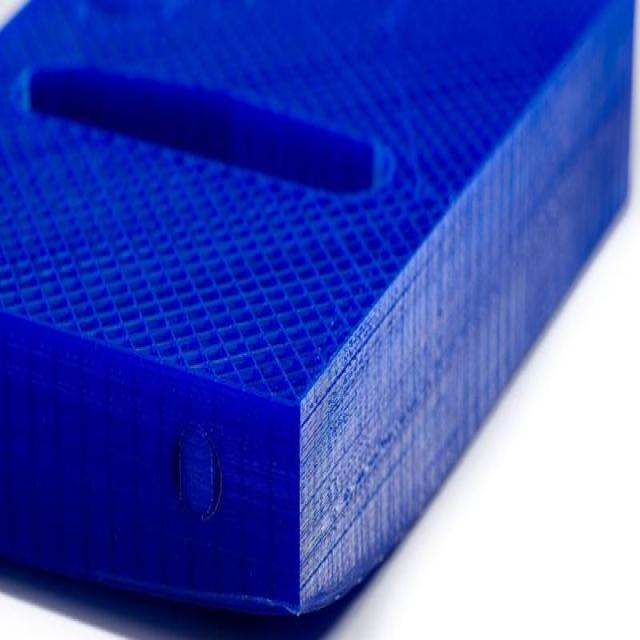Warping: (144, 545, 395, 640)
